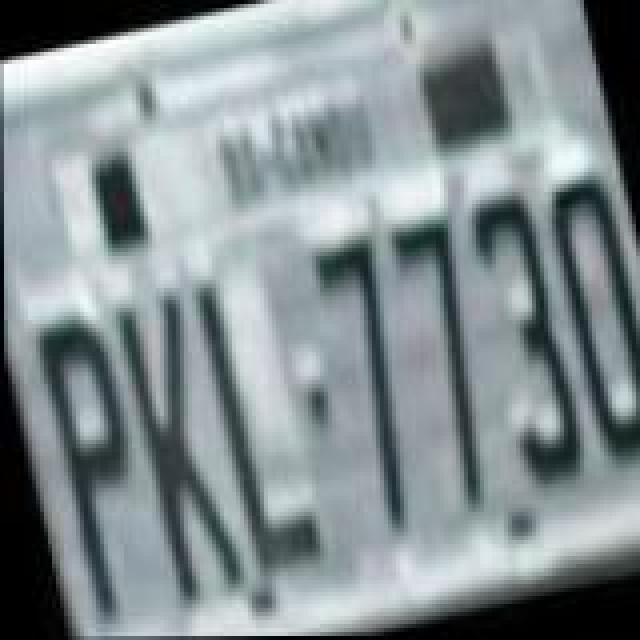3: (458, 188, 590, 496)
7: (382, 208, 506, 512), (312, 232, 436, 528)
K: (116, 290, 252, 614)
L: (190, 274, 322, 582)
O: (536, 166, 640, 470)
P: (28, 306, 164, 626)
